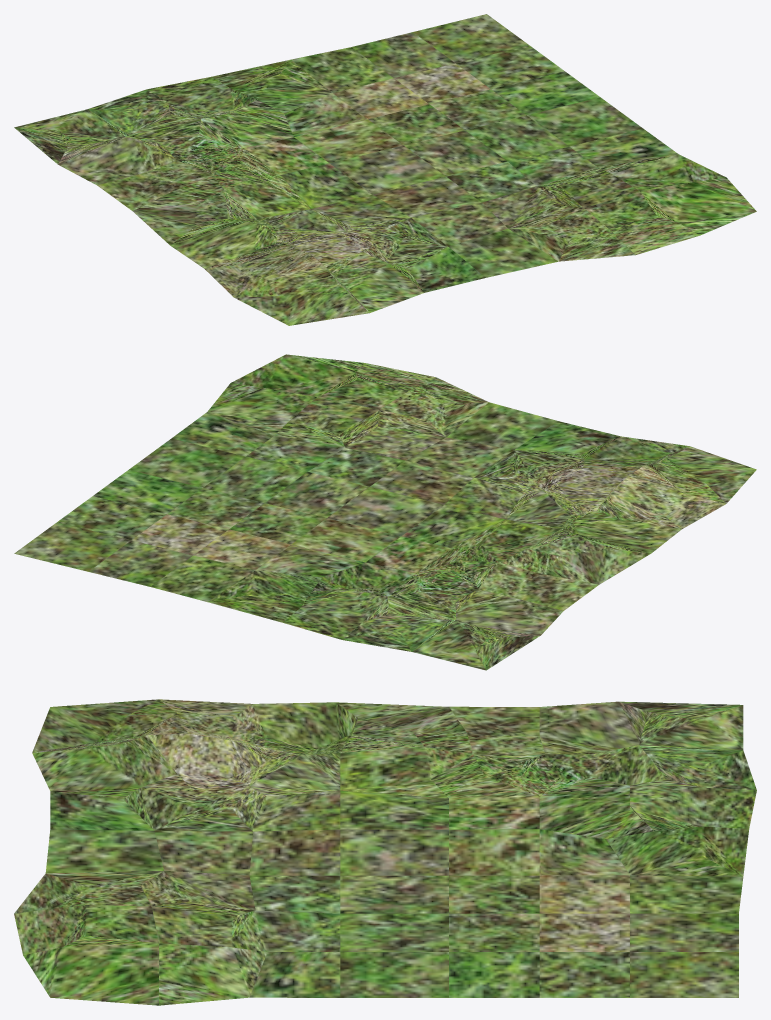
The model's file is terrain_lod2.obj.
3 renders of one model, top to bottom at view 1: azimuth 30°, elevation 25°; view 2: azimuth 150°, elevation 25°; view 3: azimuth 270°, elevation 25°, orthographic. The views are drawn at different scales.
Parts seen in each view (by area): view 1: Plane; view 2: Plane; view 3: Plane.
Boxes of the visible parts, bbox=[...] form: Plane: bbox=[14, 14, 756, 325]; Plane: bbox=[14, 354, 756, 670]; Plane: bbox=[14, 699, 756, 1005].
Size of the model in its own units: 95.24 by 2.82 by 97.62.
Materials: 1 (1 with a texture image).
